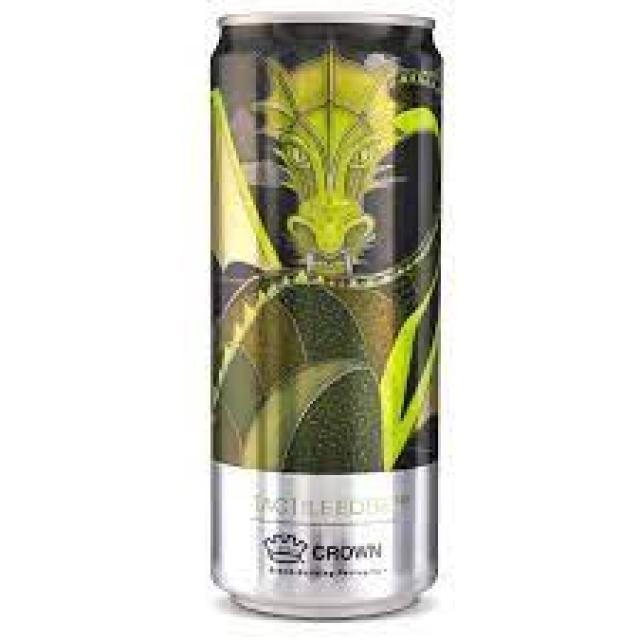Cans: (197, 2, 452, 628)
